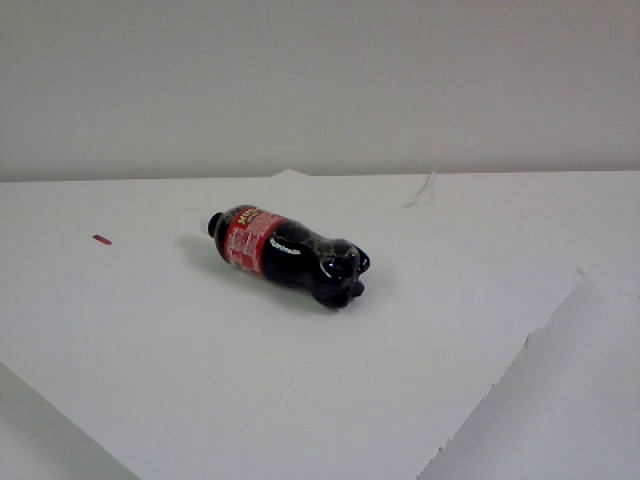botolplastik: (202, 204, 373, 312)
